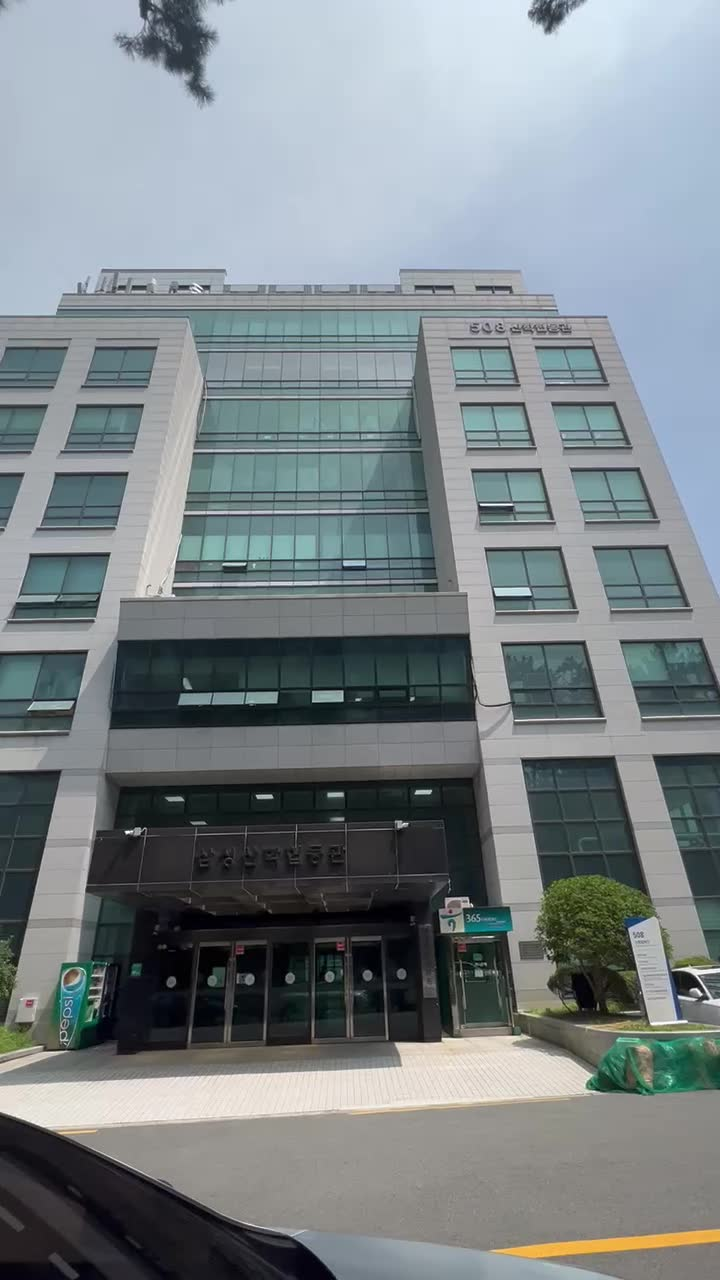medium: (0, 252, 720, 986)
